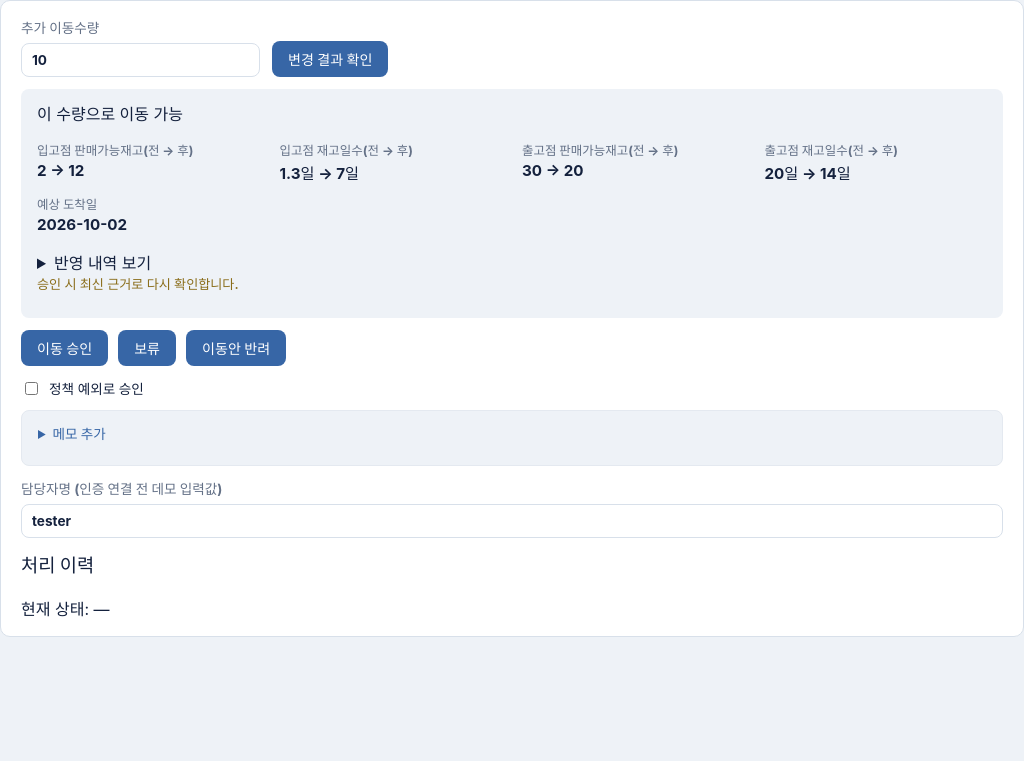
Test: DecisionPanel decision submission › keeps the same idempotency key and body on a retryable failure, and mints a new one only after the body changes
Click the button "이동 승인": {"x": 65, "y": 348} [21,330,108,366]
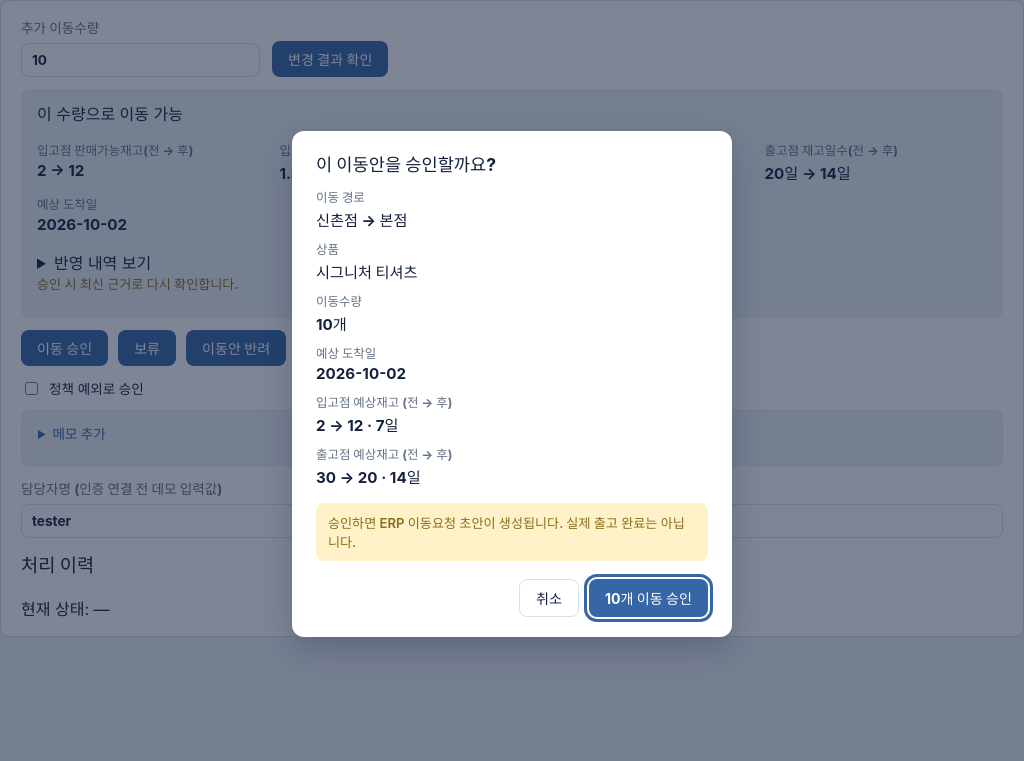
Click the button "10개 이동 승인": {"x": 648, "y": 598} [589,579,708,617]
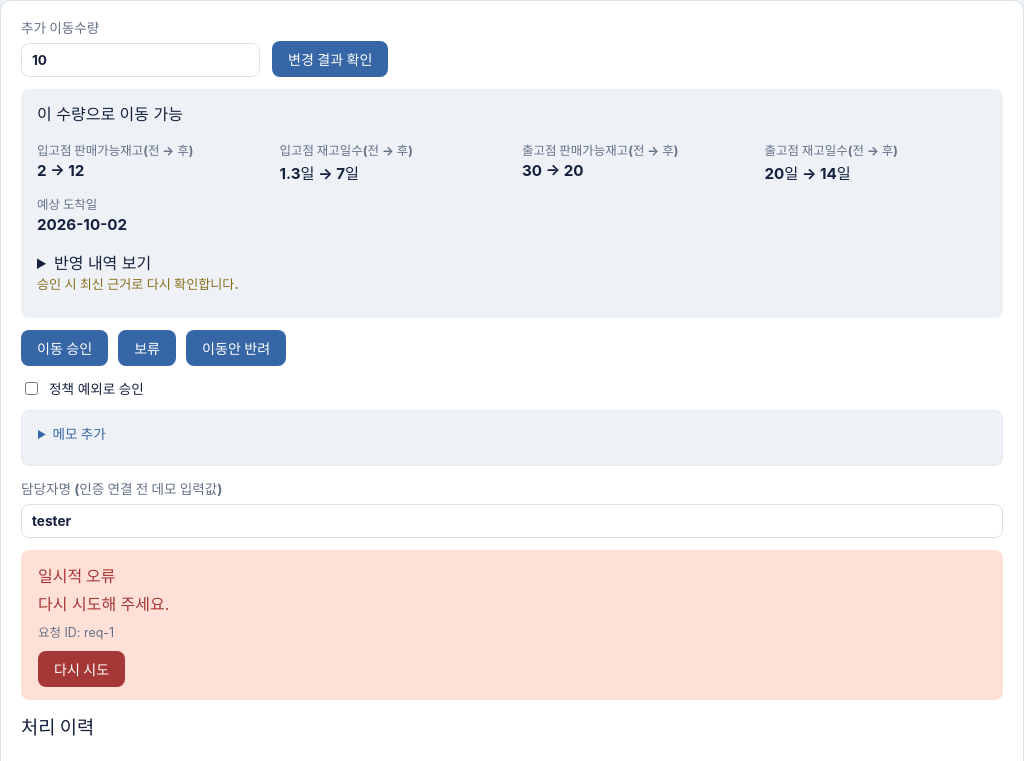
Now the text "일시적 오류" is shown, box [38,566,115,586]
Click the button "다시 시도": {"x": 82, "y": 669} [38,651,125,687]
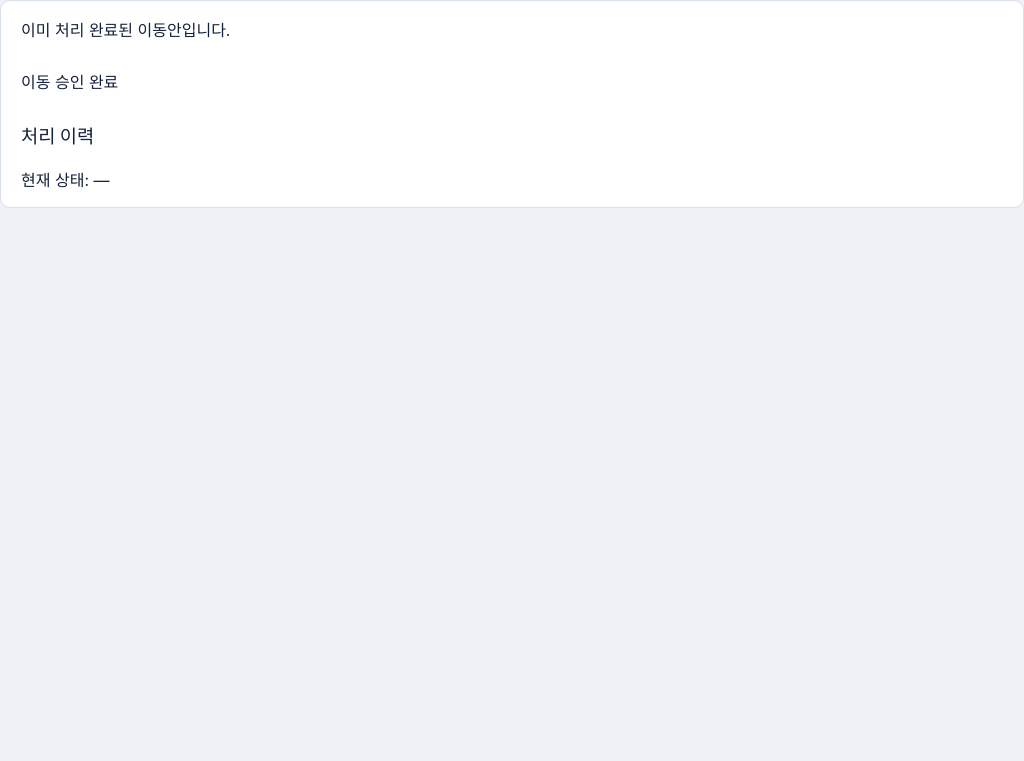
Now the text "이동 승인 완료" is shown, box [21,72,118,92]
